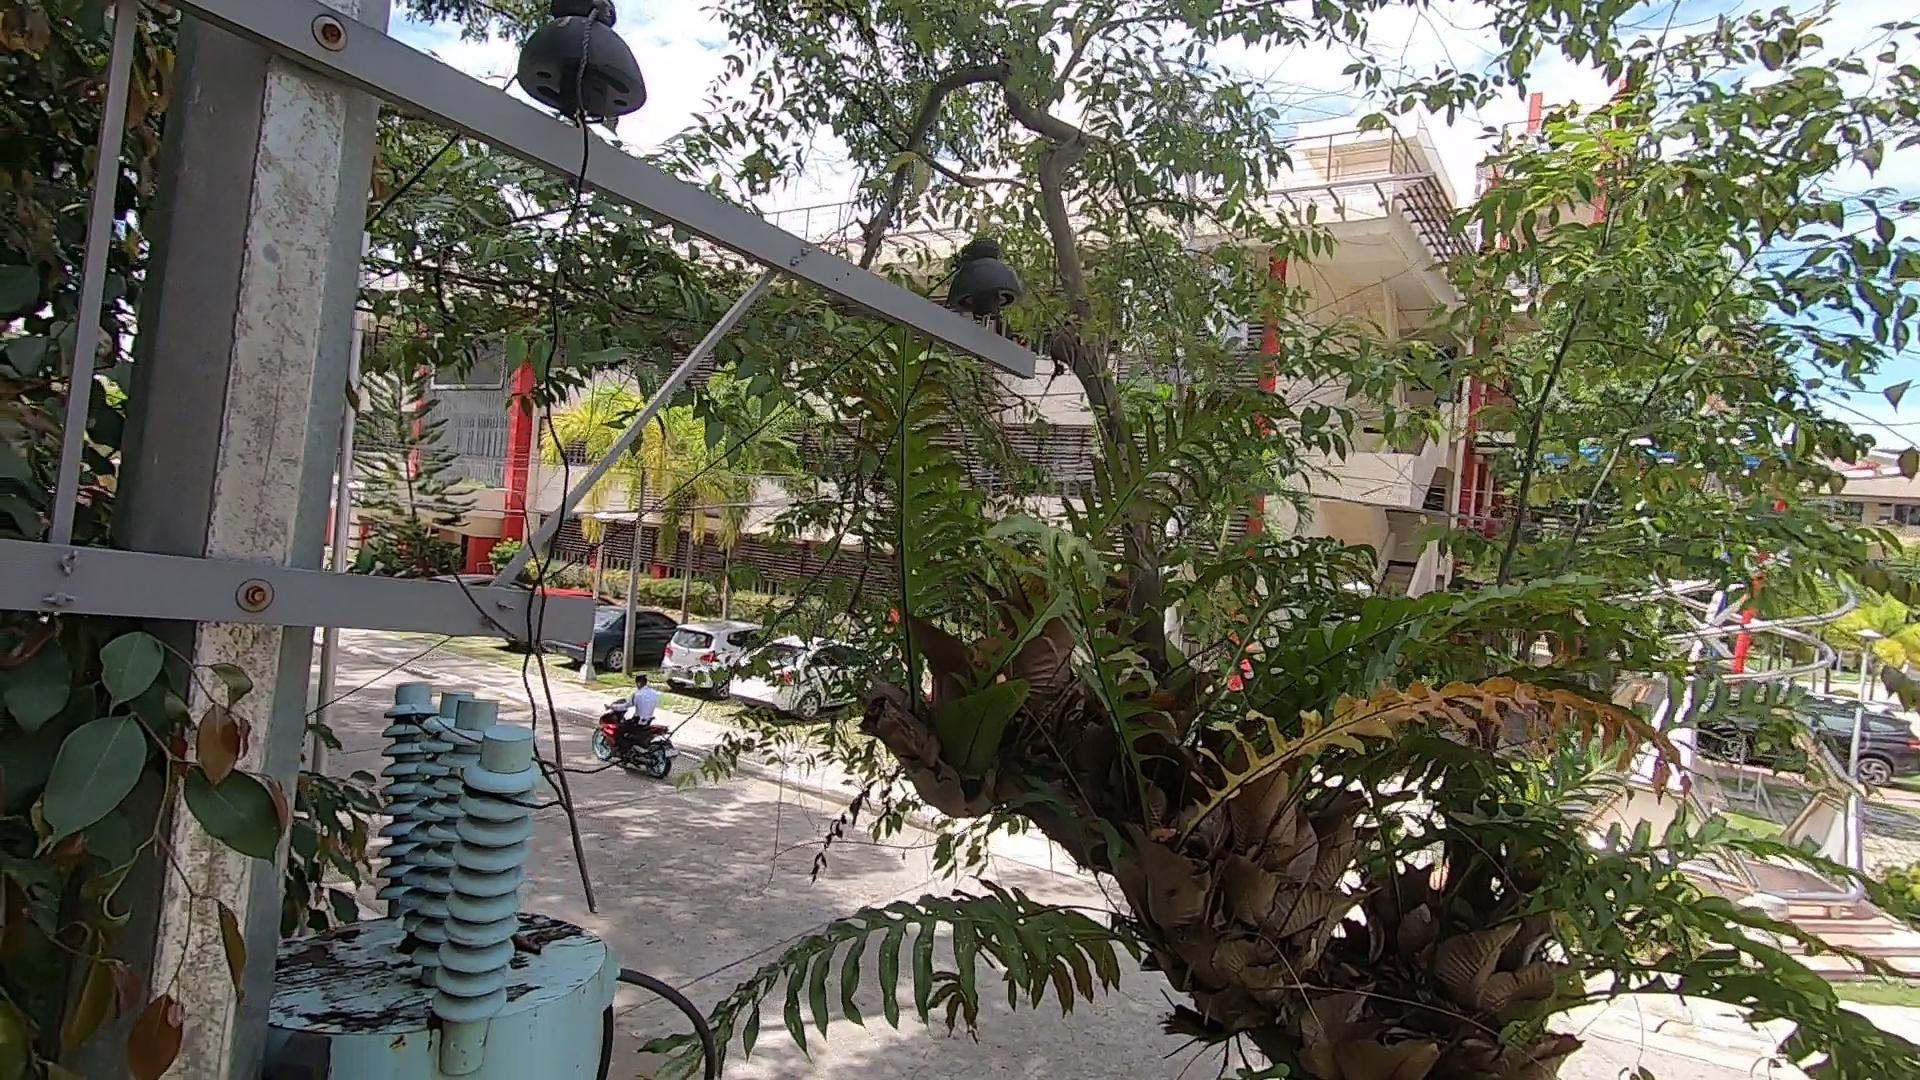leaf: (508, 916, 549, 957)
tree branch: (438, 477, 658, 913)
